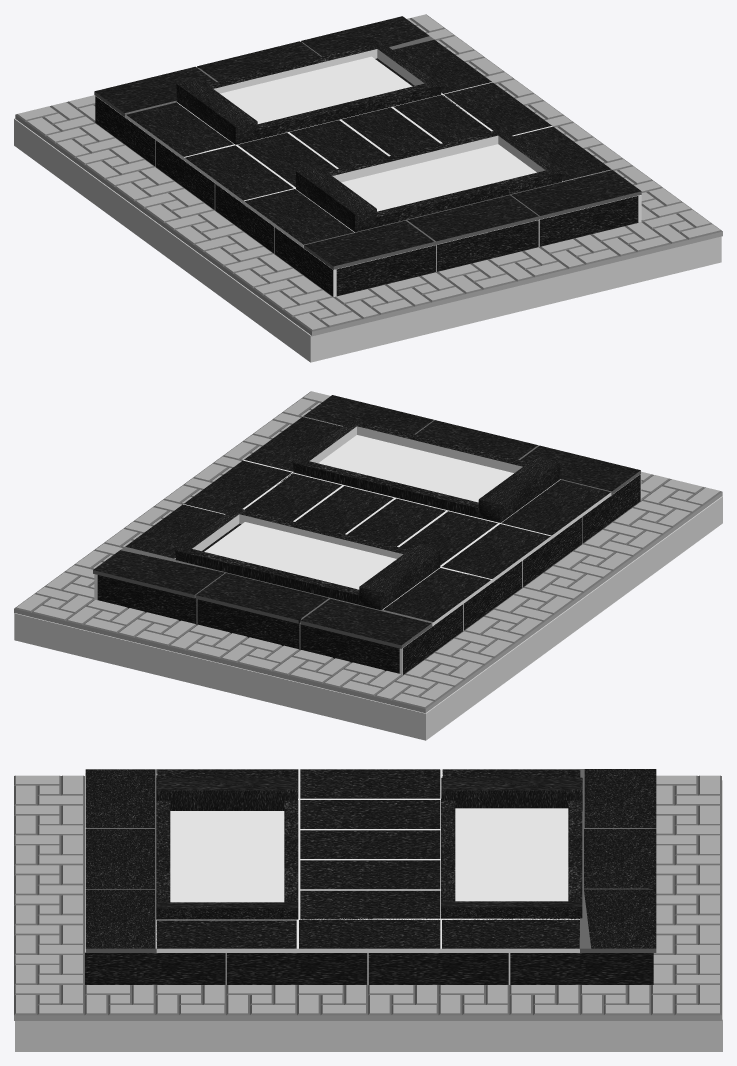
The model's file is 240-18-15 облицовка.glb.
3 renders of one model, top to bottom at view 1: azimuth 30°, elevation 25°; view 2: azimuth 150°, elevation 25°; view 3: azimuth 270°, elevation 25°, orthographic. The views are drawn at different scales.
Parts seen in each view (by area): view 1: plitka.003, Cube.165, Cube.163, Cube.167, Куб.219, Cube.168, Cube.171, Куб.231, Plane.011, Plane.007, Куб.208, Куб.226 (+6 smaller); view 2: plitka.003, Cube.163, Cube.165, Cube.171, Куб.207, Cube.168, Cube.167, Куб.231, Plane.011, Plane.007, Куб.226, Куб.208 (+6 smaller); view 3: plitka.003, Cube.165, Cube.163, Куб.230, Cube.168, Cube.171, Cube.167, Plane.011, Plane.007, Куб.208, Куб.226, Куб.210 (+5 smaller).
Part boxes in pixels (<box>): plitka.003: <box>15,14,722,336</box>; Cube.165: <box>125,58,490,247</box>; Cube.163: <box>14,118,721,362</box>; Cube.167: <box>304,169,641,269</box>; Куб.219: <box>333,195,638,296</box>; Cube.168: <box>393,39,611,181</box>; Cube.171: <box>94,16,434,116</box>; Куб.231: <box>95,96,332,296</box>; Plane.011: <box>220,56,412,123</box>; Plane.007: <box>341,144,536,211</box>; Куб.208: <box>296,165,376,232</box>; Куб.226: <box>176,78,257,144</box>; plitka.003: <box>14,391,722,713</box>; Cube.163: <box>14,496,722,740</box>; Cube.165: <box>202,472,611,626</box>; Cube.171: <box>93,546,432,648</box>; Куб.207: <box>97,575,402,675</box>; Cube.168: <box>125,417,342,558</box>; Cube.167: <box>303,395,640,494</box>; Куб.231: <box>403,474,640,674</box>; Plane.011: <box>204,522,396,589</box>; Plane.007: <box>318,435,513,502</box>; Куб.226: <box>359,544,440,610</box>; Куб.208: <box>478,456,559,522</box>; plitka.003: <box>14,775,721,1020</box>; Cube.165: <box>156,769,580,919</box>; Cube.163: <box>15,780,722,1051</box>; Куб.230: <box>85,952,653,984</box>; Cube.168: <box>156,918,579,952</box>; Cube.171: <box>579,769,656,952</box>; Cube.167: <box>85,769,156,952</box>; Plane.011: <box>455,808,568,901</box>; Plane.007: <box>170,811,284,902</box>; Куб.208: <box>156,777,297,810</box>; Куб.226: <box>441,777,582,811</box>; Куб.210: <box>156,902,297,919</box>.
Bounding box in the file's own units: 2.41 × 0.4464 × 3.
6 materials, 2 textured.
